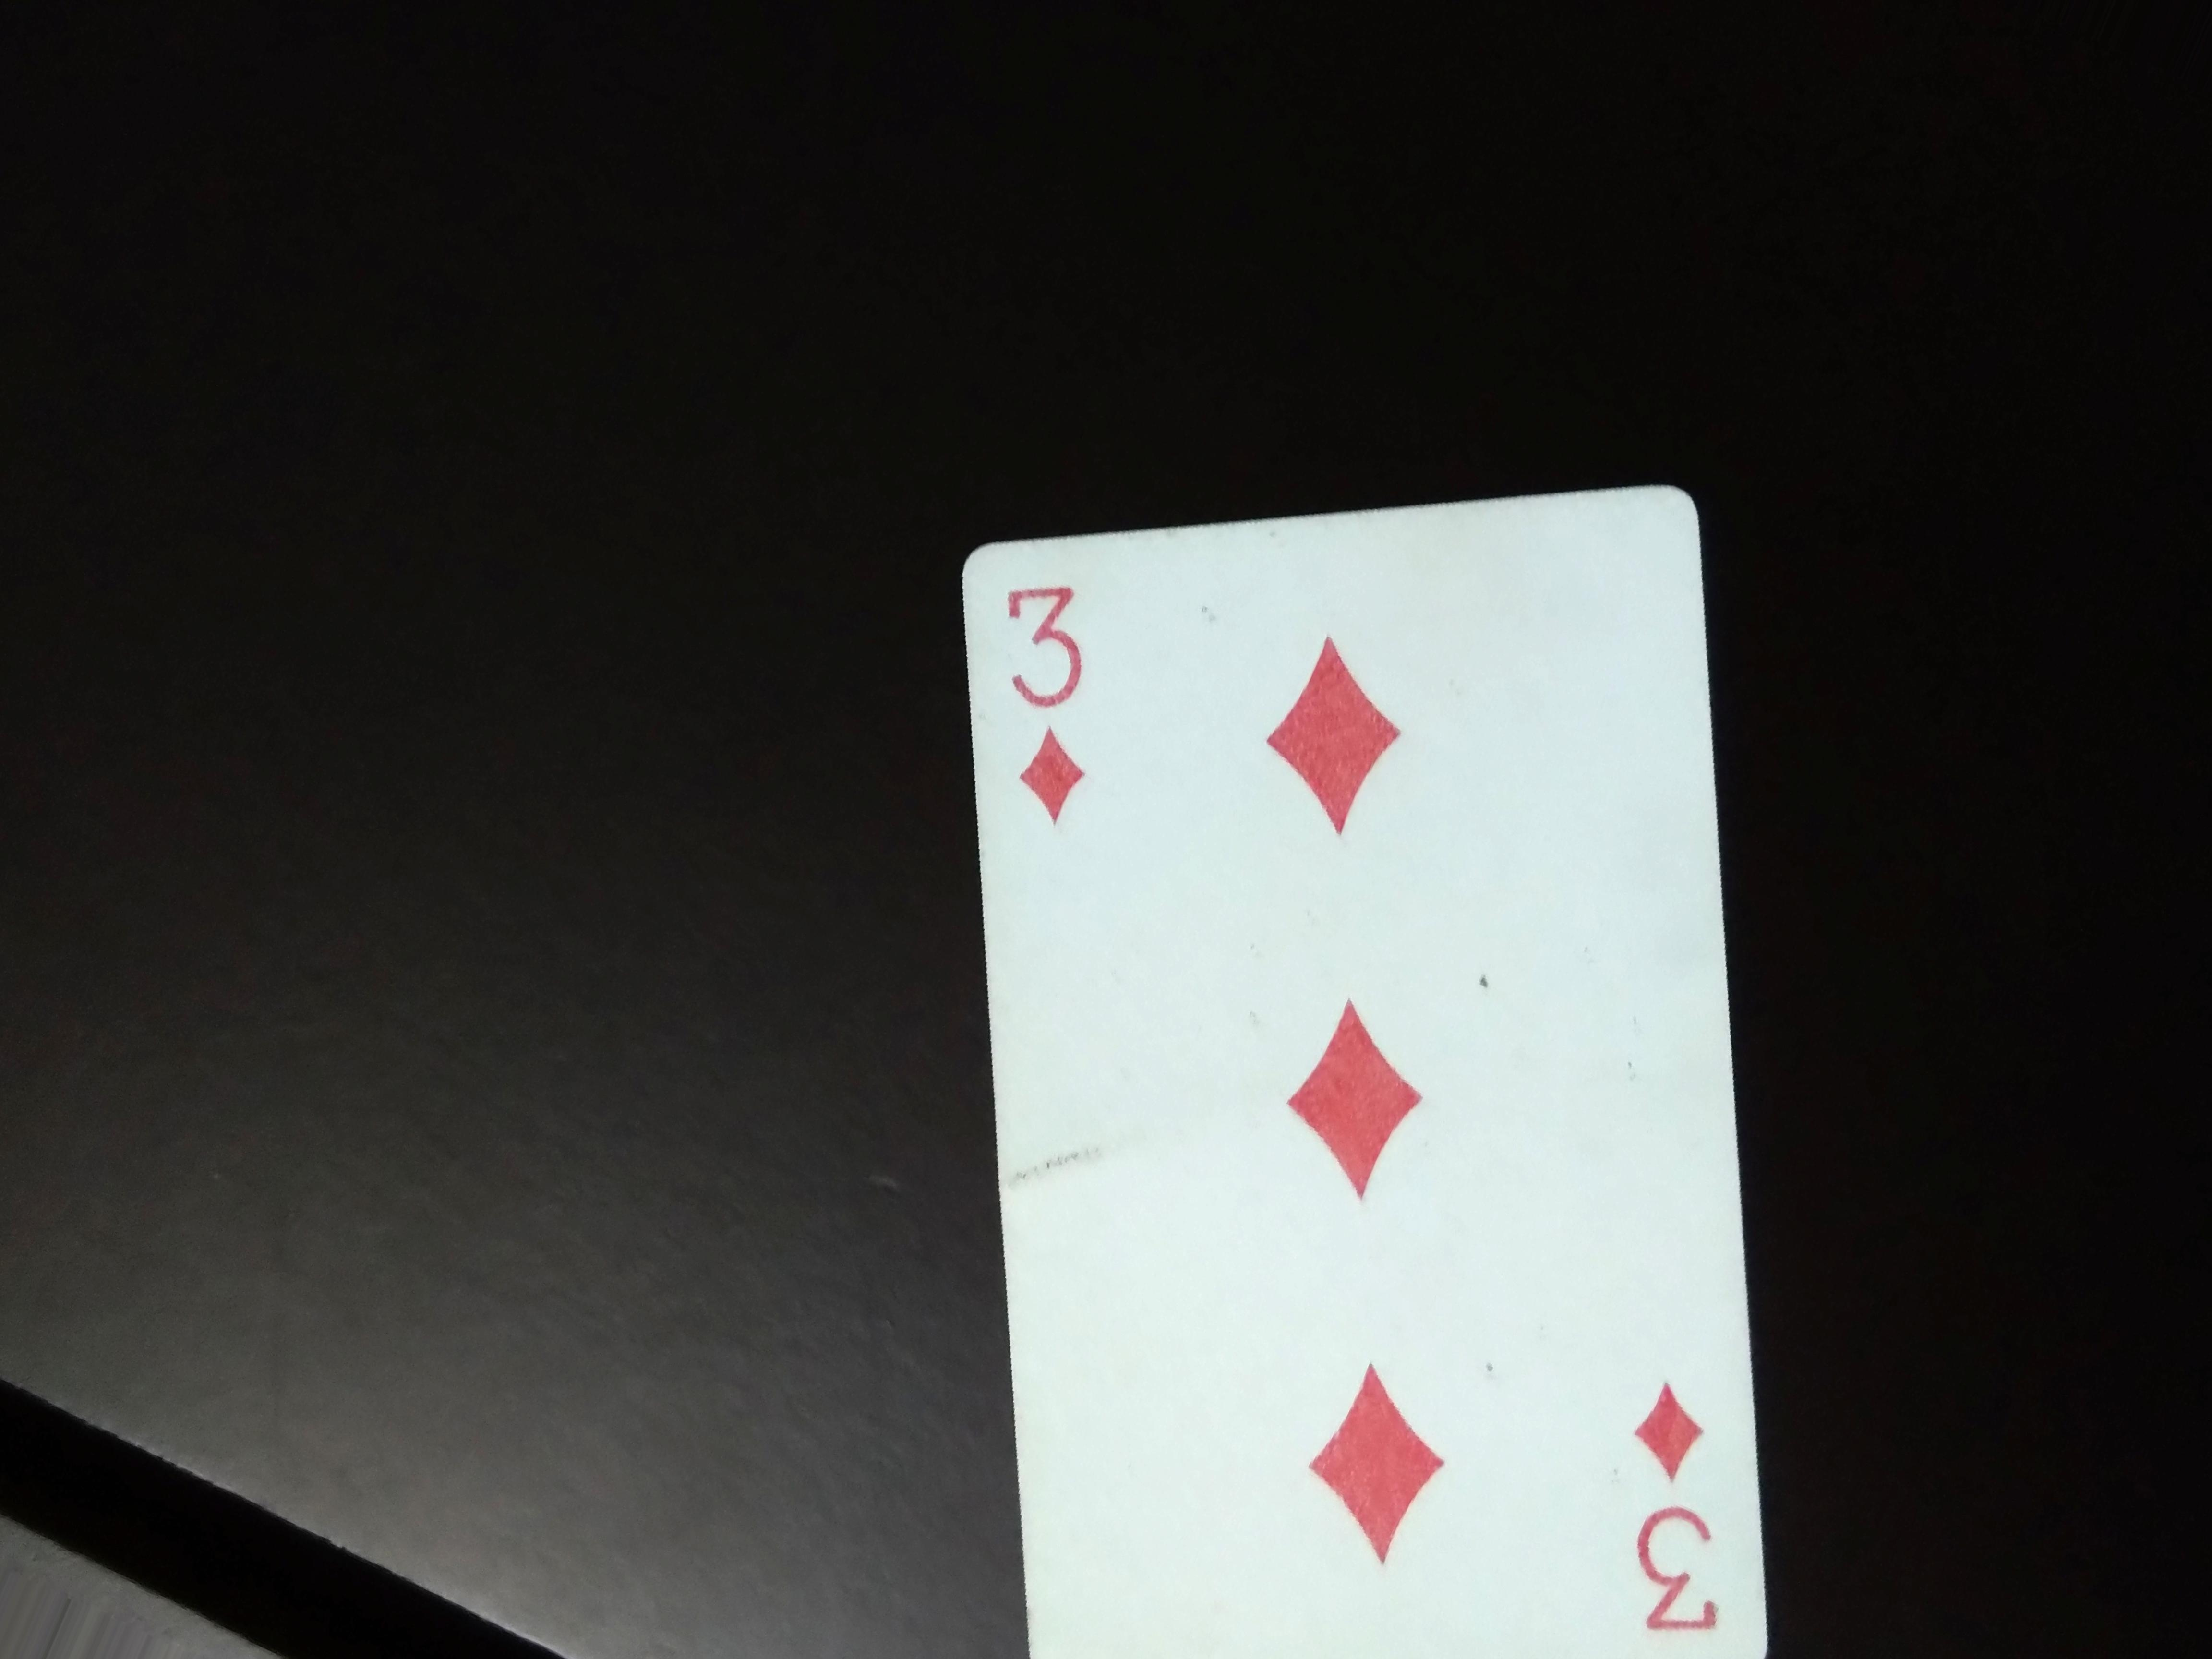3D: (988, 572, 1118, 823)
